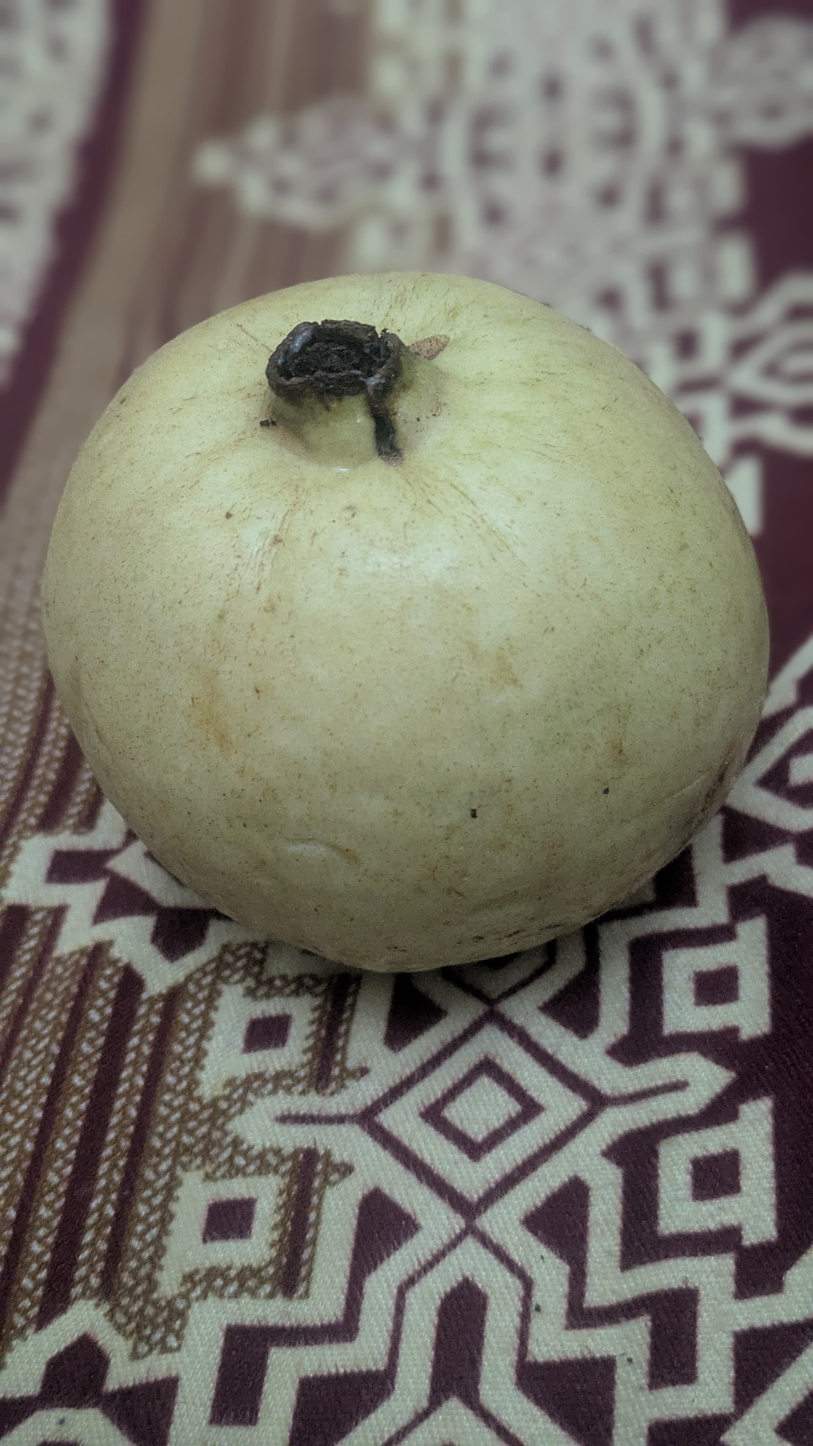guava: (187, 27, 753, 1290)
